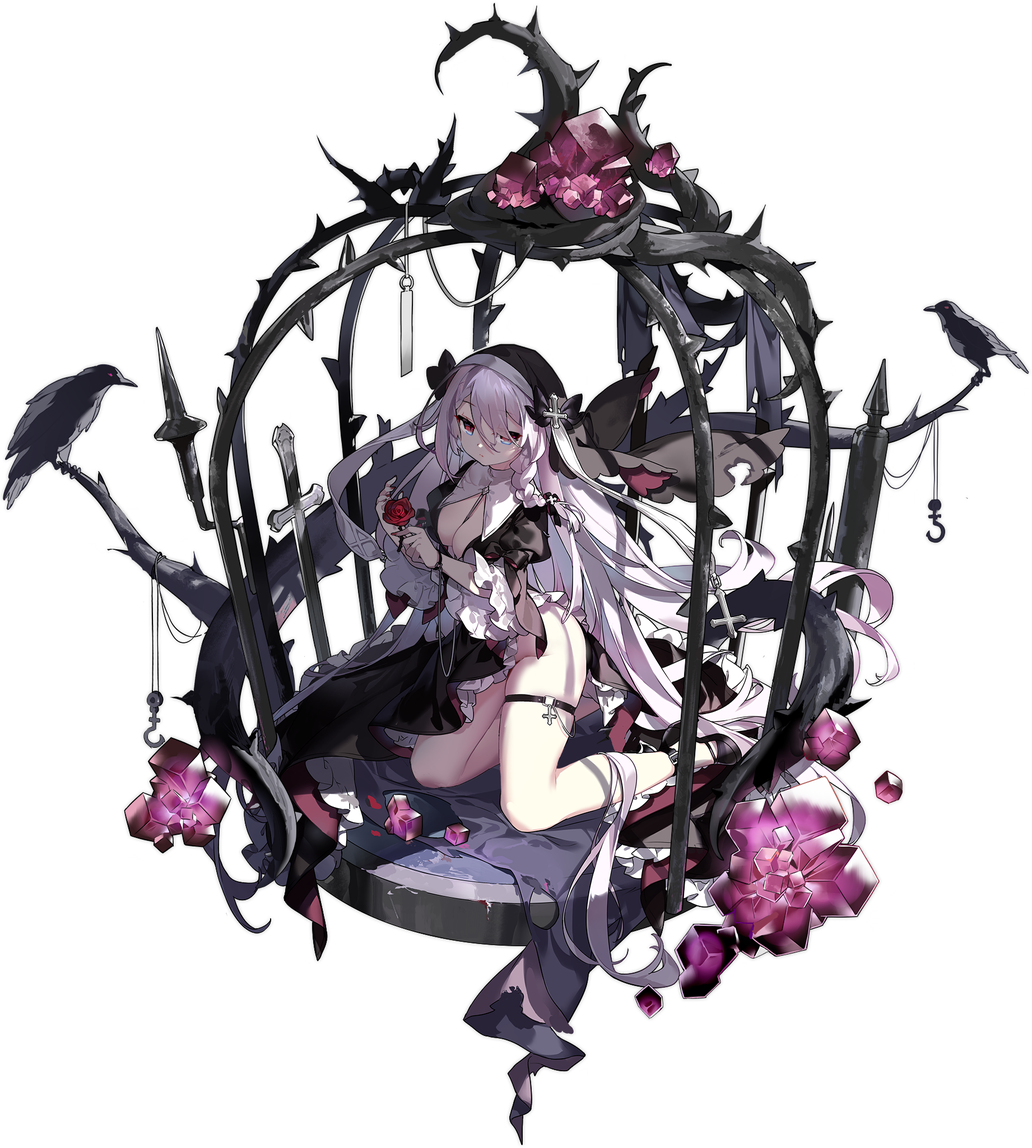person: (226, 330, 687, 1145)
